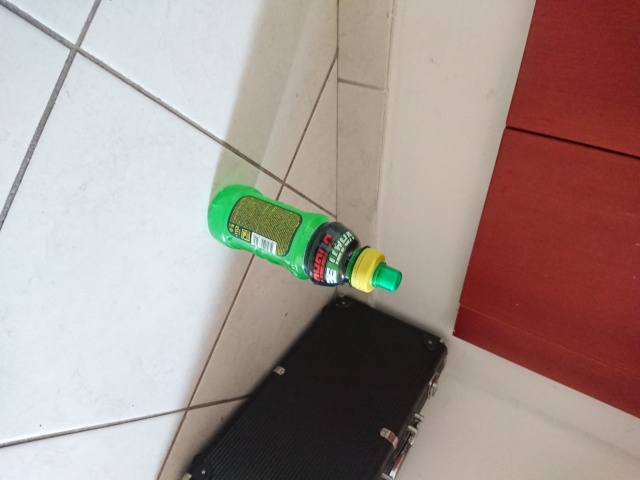Vindi Iso Sport Lemon-Grapefruit 500mL: (204, 181, 405, 296)
